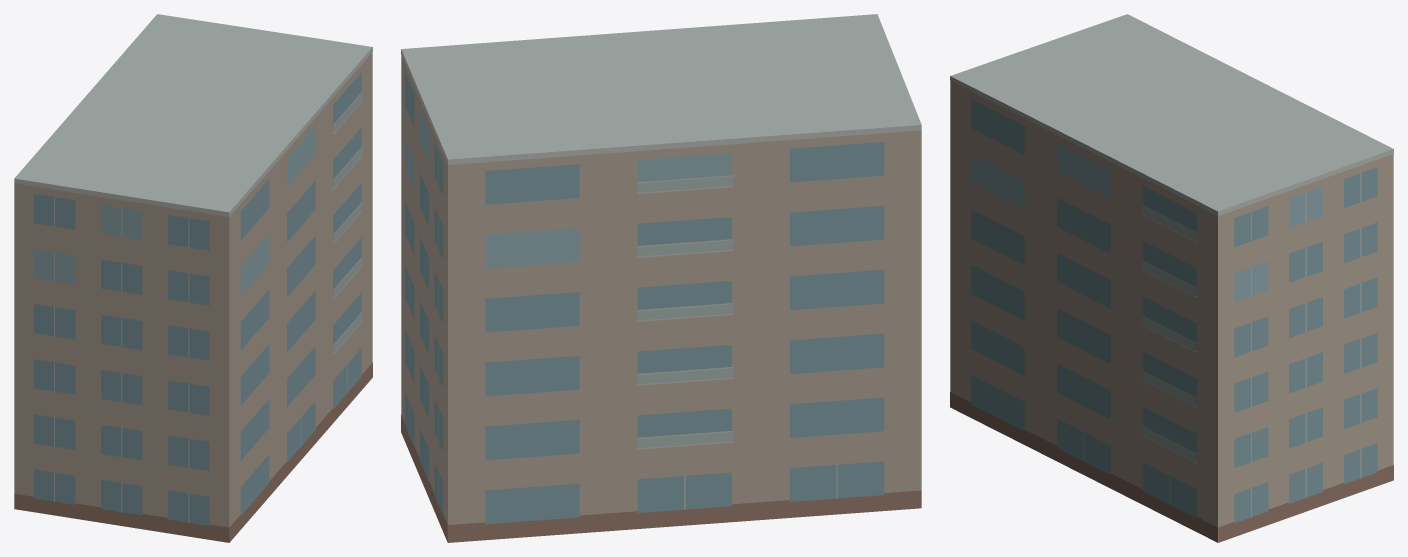
The model's file is survey-upis-32746033.glb.
3 renders of one model, left to right at view 1: azimuth 30°, elevation 25°; view 2: azimuth 150°, elevation 25°; view 3: azimuth 270°, elevation 25°, orthographic. The views are drawn at different scales.
Visible parts, largest first — view 1: survey-upis-32746033.tmp; view 2: survey-upis-32746033.tmp; view 3: survey-upis-32746033.tmp.
Part boxes in pixels (x1,y1,x2,y2): survey-upis-32746033.tmp: [14, 14, 372, 542]; survey-upis-32746033.tmp: [401, 14, 921, 542]; survey-upis-32746033.tmp: [950, 14, 1393, 542].
Bounding box in the file's own units: 21.87 × 17.1 × 20.76.
